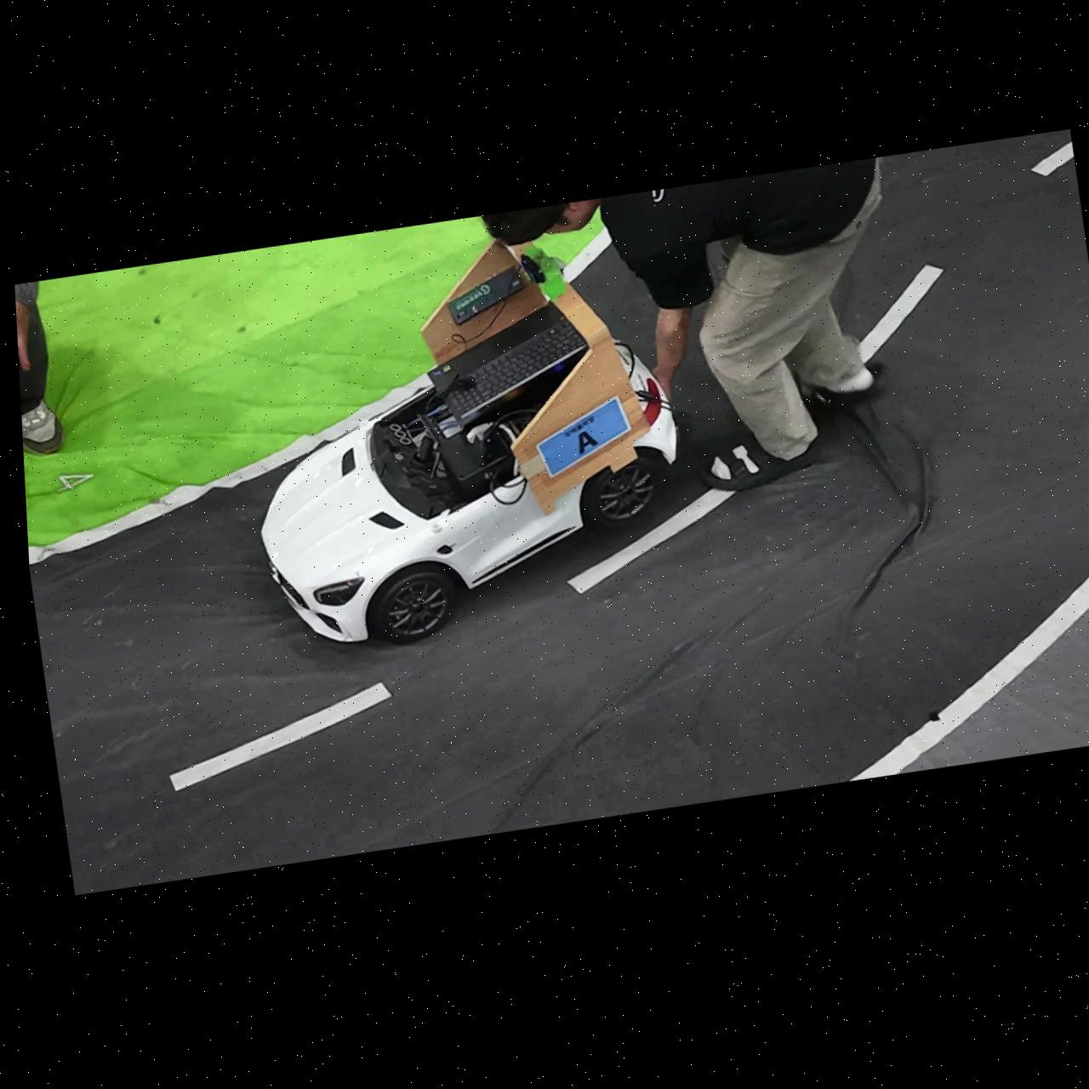broken_line: (170, 683, 391, 791), (569, 490, 734, 593), (860, 264, 944, 364), (1032, 142, 1074, 176)
